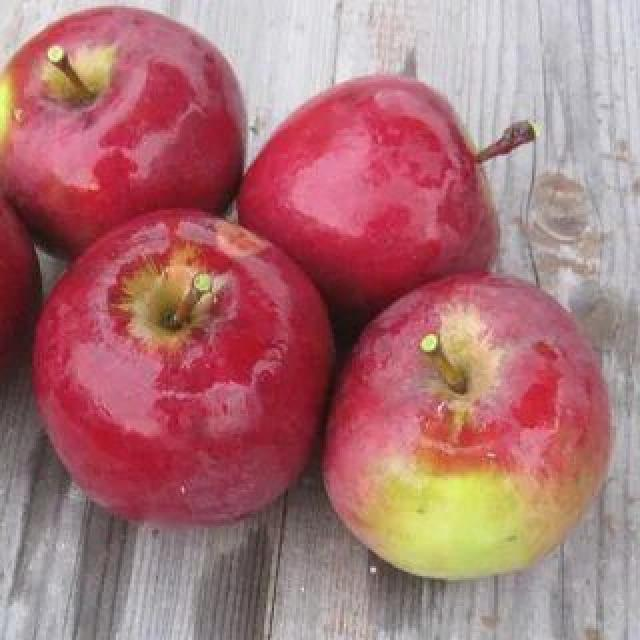Fresh Apple: (20, 208, 323, 530), (328, 285, 605, 588), (243, 65, 507, 303), (0, 20, 230, 248)
